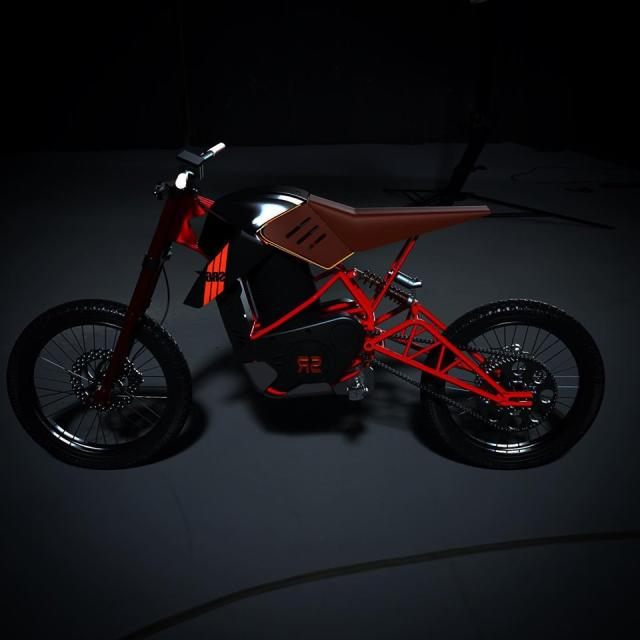motorcycle: (9, 154, 604, 469), (450, 368, 494, 392)
